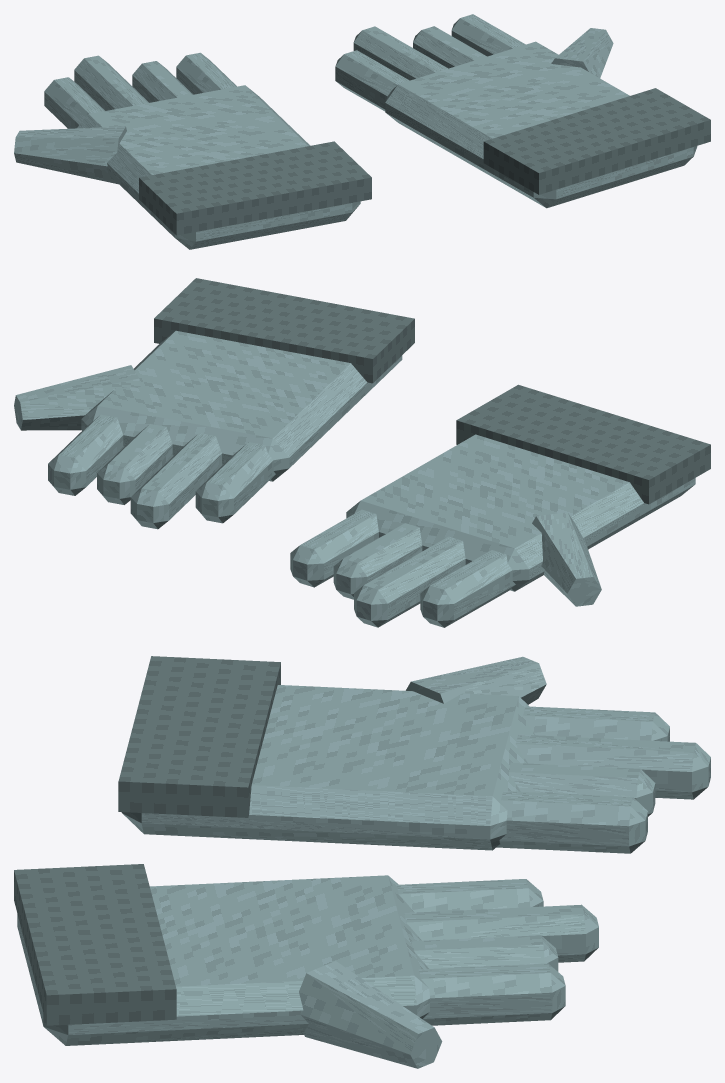
The model's file is gloves_medical.glb.
The picture shows the model from 3 angles, top to bottom: view 1: azimuth 30°, elevation 25°; view 2: azimuth 150°, elevation 25°; view 3: azimuth 270°, elevation 25°; orthographic projection. The views are drawn at different scales.
Visible parts, largest first — view 1: block_palm and cuff (×2), block_rib cuff (×2), block_thumb (×2), block_finger 1 (×2), block_finger 0 (×2), block_finger 3 (×2), block_finger 2 (×2); view 2: block_palm and cuff (×2), block_rib cuff (×2), block_finger 1 (×2), block_thumb (×2), block_finger 0 (×2), block_finger 3 (×2), block_finger 2 (×2); view 3: block_palm and cuff (×2), block_rib cuff (×2), block_finger 3 (×2), block_finger 1 (×2), block_thumb (×2), block_finger 2 (×2), block_finger 0 (×2).
Part boxes in pixels (x1,y1,x2,y2): block_palm and cuff (×2): (77, 41, 697, 249); block_rib cuff (×2): (139, 88, 710, 235); block_thumb (×2): (14, 28, 613, 184); block_finger 1 (×2): (74, 26, 447, 110); block_finger 0 (×2): (44, 50, 409, 128); block_finger 3 (×2): (176, 14, 525, 94); block_finger 2 (×2): (132, 26, 486, 102); block_palm and cuff (×2): (81, 330, 695, 591); block_rib cuff (×2): (154, 278, 710, 504); block_finger 1 (×2): (130, 433, 465, 627); block_thumb (×2): (14, 365, 601, 606); block_finger 0 (×2): (195, 442, 515, 627); block_finger 3 (×2): (48, 414, 378, 587); block_finger 2 (×2): (97, 423, 422, 599); block_palm and cuff (×2): (17, 685, 535, 1045); block_rib cuff (×2): (14, 656, 280, 1025); block_finger 3 (×2): (418, 791, 647, 1025); block_finger 1 (×2): (404, 734, 710, 962); block_thumb (×2): (299, 656, 546, 1068); block_finger 2 (×2): (411, 762, 655, 971); block_finger 0 (×2): (396, 706, 669, 912).
Size of the model in its own units: 0.2433 by 0.0195 by 0.1868.
1 material, 1 textured.
